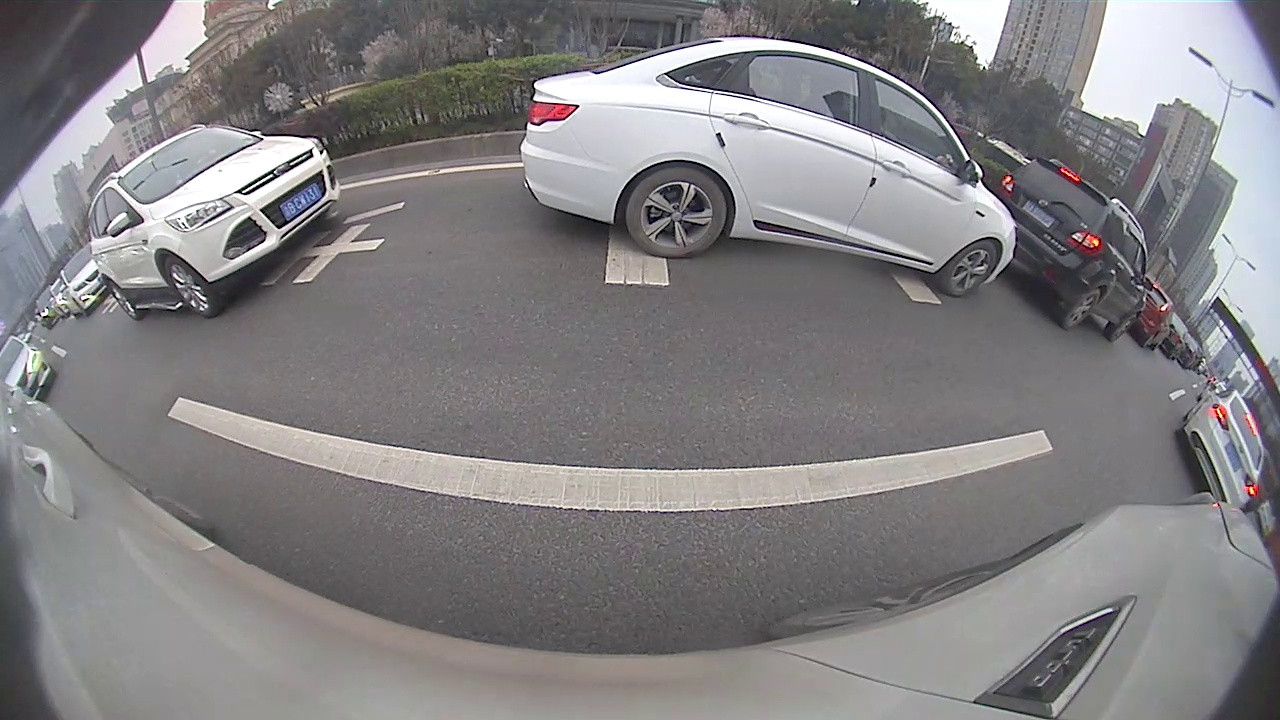car: (518, 37, 1018, 299), (85, 123, 343, 321), (997, 157, 1150, 341), (1173, 388, 1266, 511), (55, 247, 111, 316), (2, 337, 57, 403)
front: (163, 256, 221, 319), (939, 239, 999, 297), (1110, 311, 1136, 344)
rear: (625, 162, 729, 260), (1060, 287, 1101, 332), (108, 277, 144, 321)
